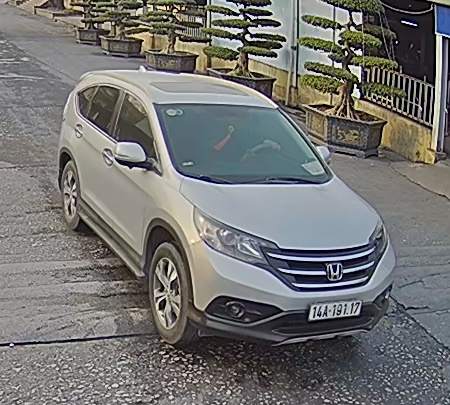vehicle plate: (299, 295, 372, 322)
